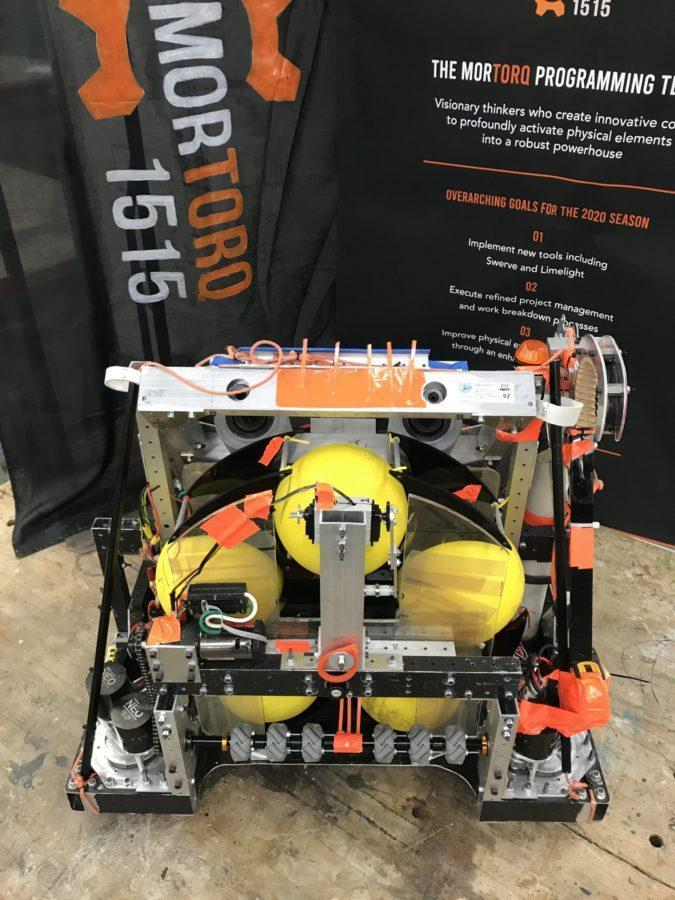robot: (59, 310, 636, 835)
